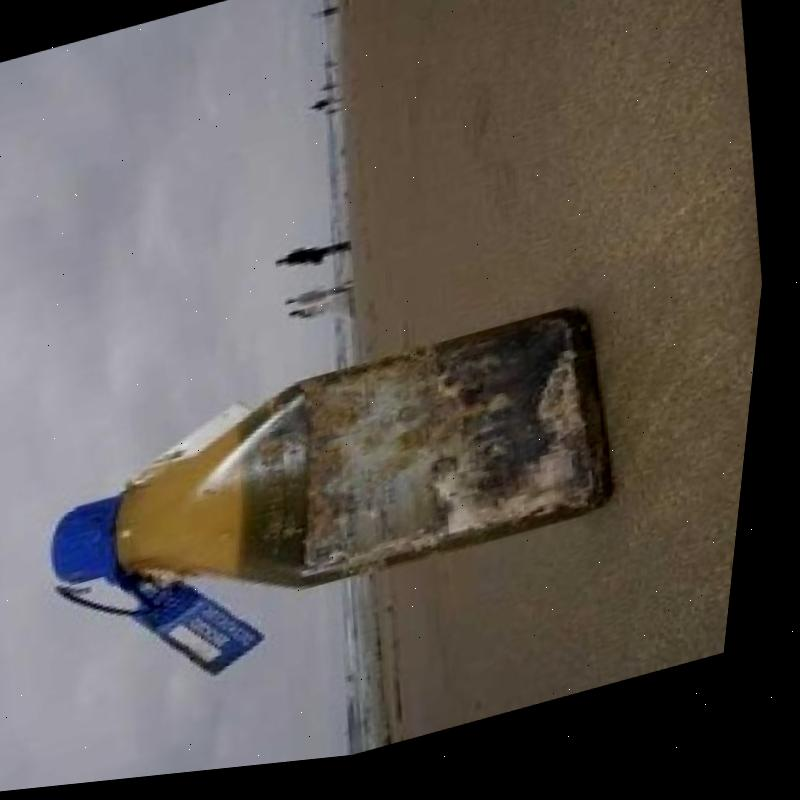botella: (33, 302, 649, 660)
